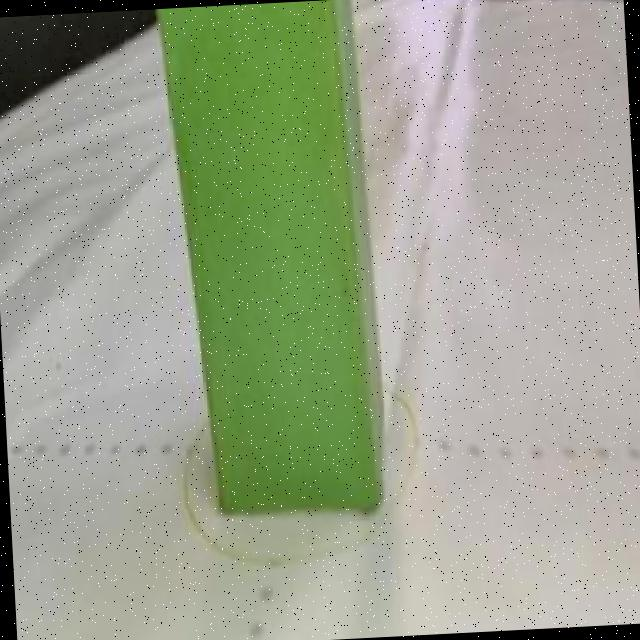greenbox: (152, 0, 387, 516)
